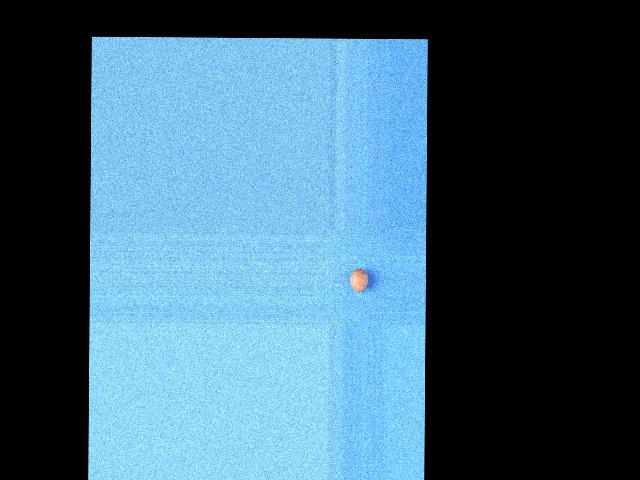egg: (350, 269, 369, 292)
